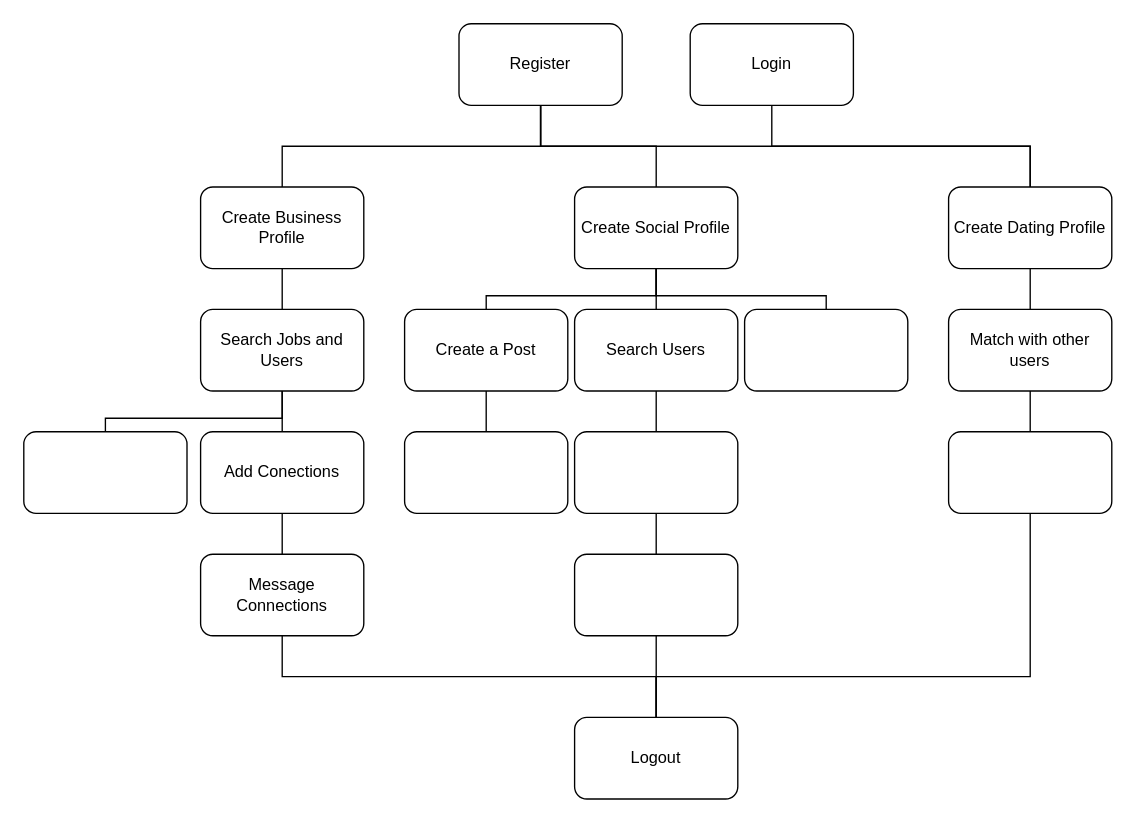
The diagram is 1136 pixels wide and 823 high, and some of its shapes have lost their labels. Each missing label, with the centre of its shape:
Add Friends: [655,471]
Apply to Jobs: [104,471]
Like or Dislike Posts: [485,471]
Message Friends: [655,594]
Message matched users: [1029,471]
Play minesweeper: [825,349]
